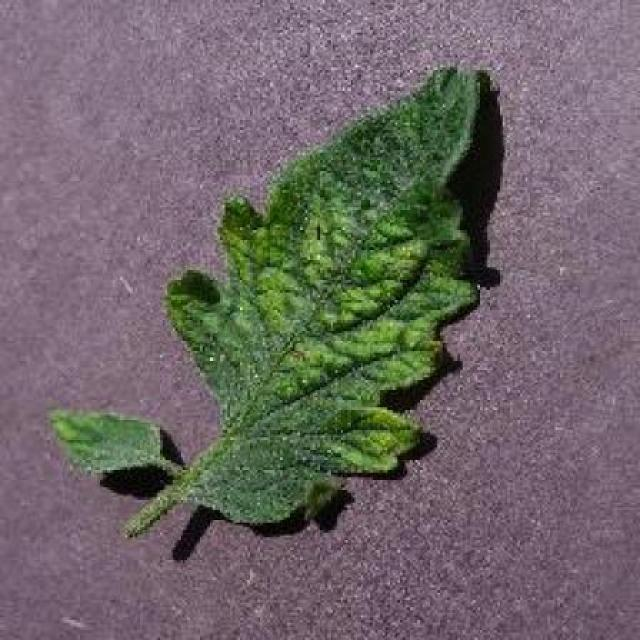Mosaic Virus: (164, 62, 486, 524), (44, 403, 169, 474)
